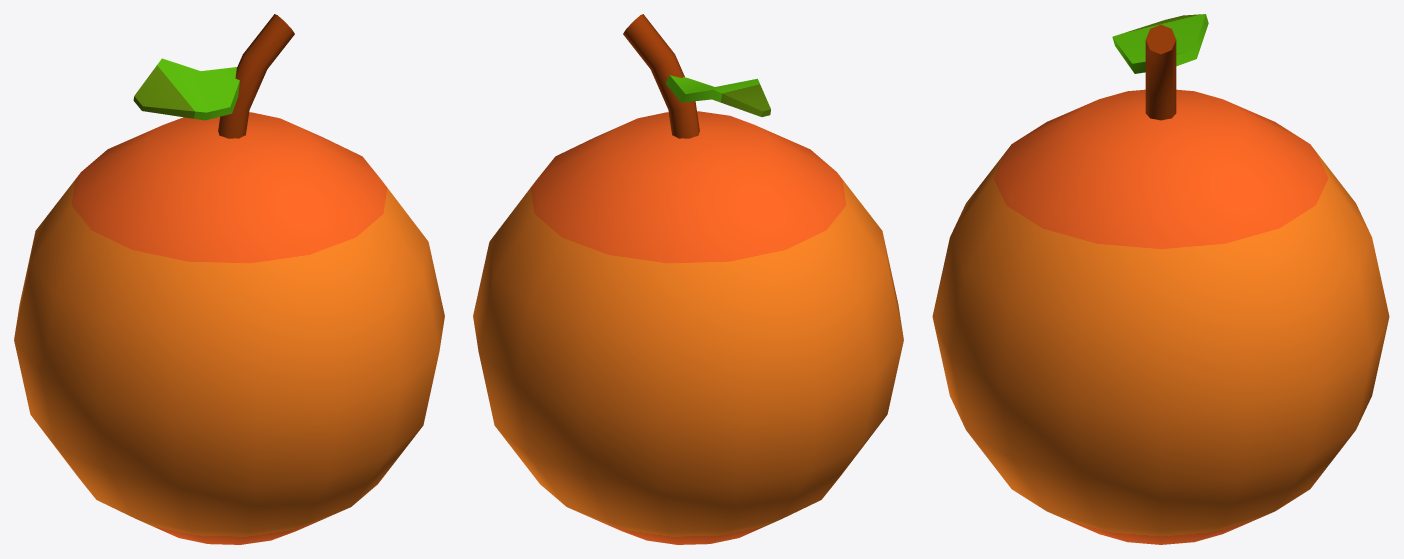
File: ITMC_Naranja.FBX
3 renders of one model, left to right at view 1: azimuth 30°, elevation 25°; view 2: azimuth 150°, elevation 25°; view 3: azimuth 270°, elevation 25°, orthographic. The views are drawn at different scales.
Visible parts, largest first — view 1: ITMC_Naranja_01, ITMC_Naranja_02, ITMC_Naranja_03; view 2: ITMC_Naranja_01, ITMC_Naranja_03, ITMC_Naranja_02; view 3: ITMC_Naranja_01, ITMC_Naranja_03, ITMC_Naranja_02.
Boxes of the visible parts, x1,y1,x2,y2 form: ITMC_Naranja_01: (14,112,444,544); ITMC_Naranja_02: (133,58,239,120); ITMC_Naranja_03: (218,14,294,138); ITMC_Naranja_01: (473,111,903,544); ITMC_Naranja_03: (623,14,699,138); ITMC_Naranja_02: (665,75,770,116); ITMC_Naranja_01: (932,89,1389,544); ITMC_Naranja_03: (1145,24,1176,120); ITMC_Naranja_02: (1112,14,1208,73).
Bounding box in the file's own units: 0.6 × 0.7589 × 0.6.
